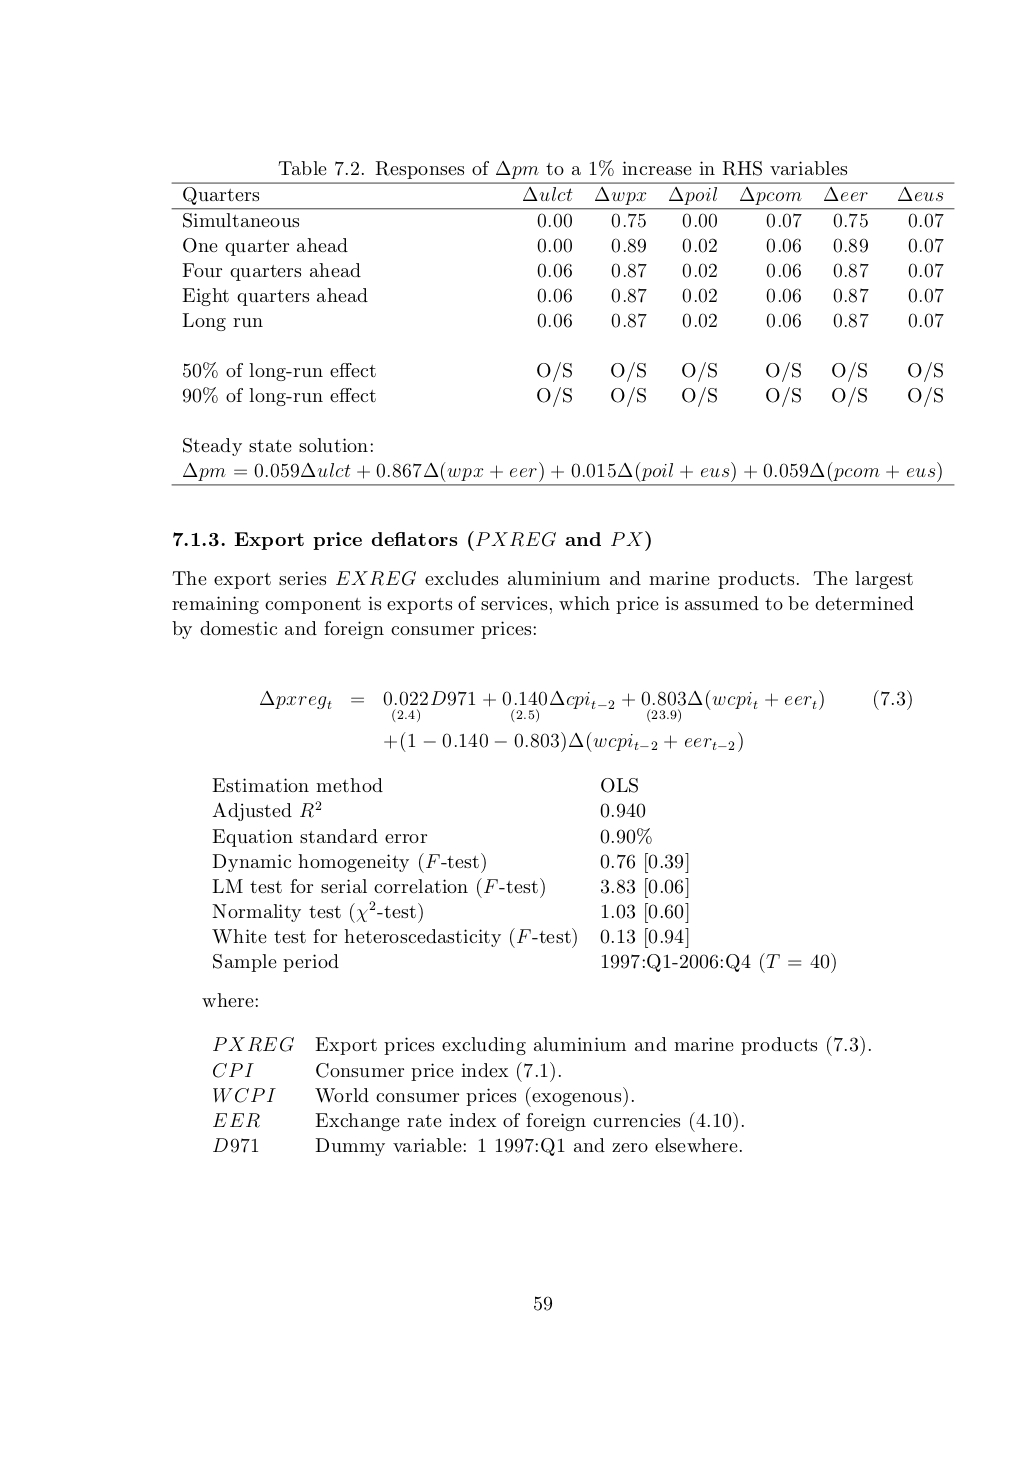Table: (171, 160, 954, 484), (212, 778, 835, 972)
formula: (260, 689, 911, 723), (384, 731, 742, 752)
